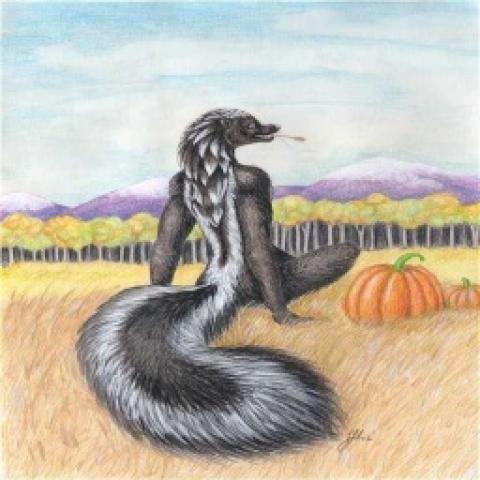small_animal: (73, 103, 362, 461)
